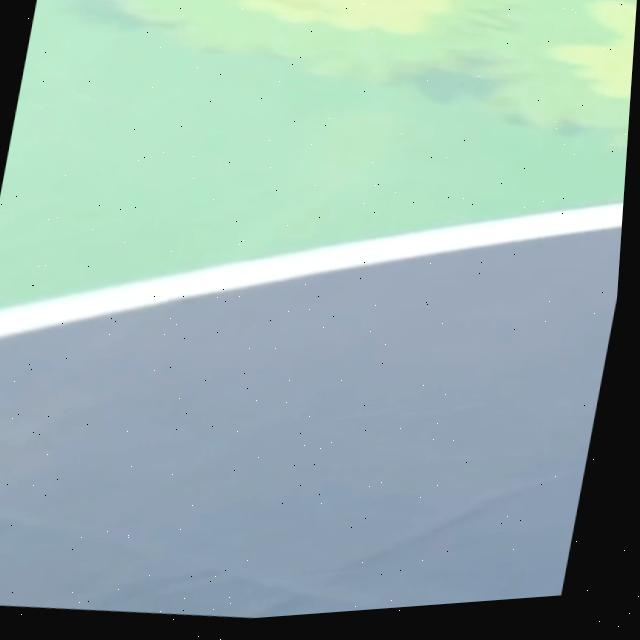right: (0, 203, 623, 337)
